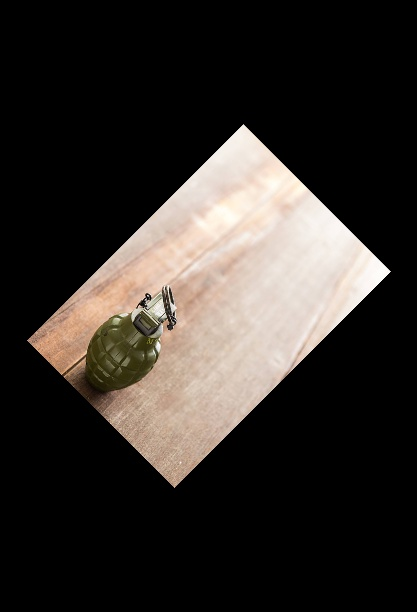e1: (83, 283, 177, 394)
